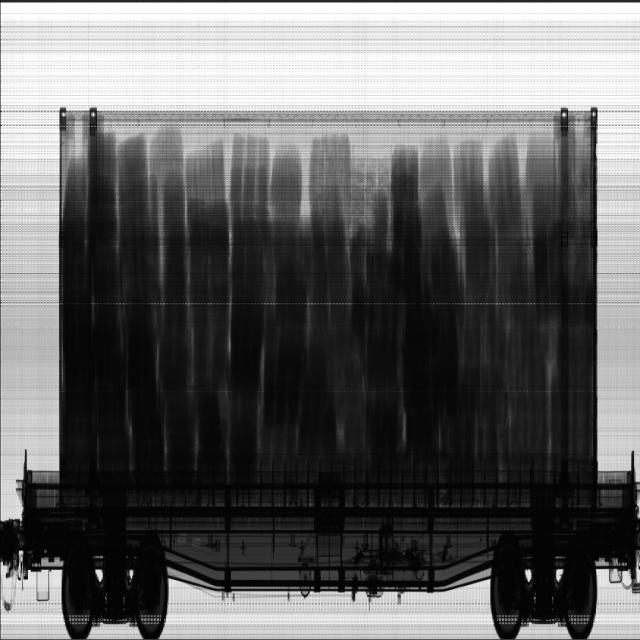clothes: (59, 116, 594, 482)
